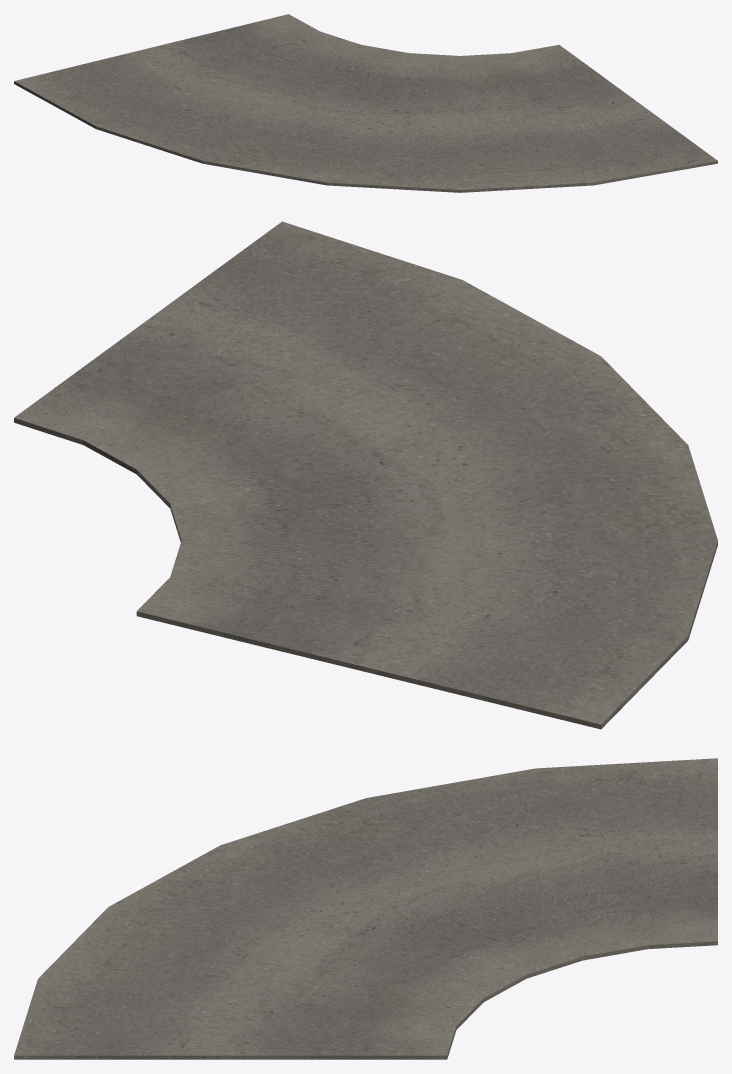
The model's file is road_3_long_corner_no_sides.glb.
3 views of the same model, one above another, from view 1: azimuth 30°, elevation 25°; view 2: azimuth 150°, elevation 25°; view 3: azimuth 270°, elevation 25° (orthographic). The views are drawn at different scales.
Visible parts, largest first — view 1: road_3_long_corner_no_sides; view 2: road_3_long_corner_no_sides; view 3: road_3_long_corner_no_sides.
Part boxes in pixels (x1,y1,x2,y2): road_3_long_corner_no_sides: (14, 14, 717, 192); road_3_long_corner_no_sides: (14, 221, 717, 729); road_3_long_corner_no_sides: (14, 758, 717, 1059).
Bounding box in the file's own units: 26 × 0.16 × 26.
Materials: 1 (1 with a texture image).
